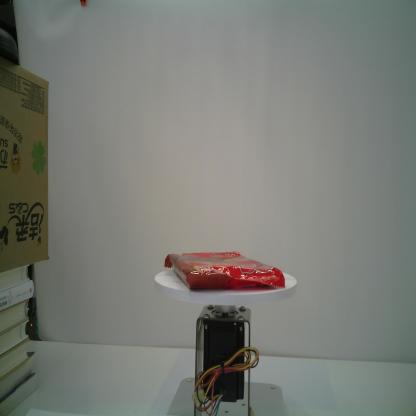Dessert: (164, 251, 286, 291)
